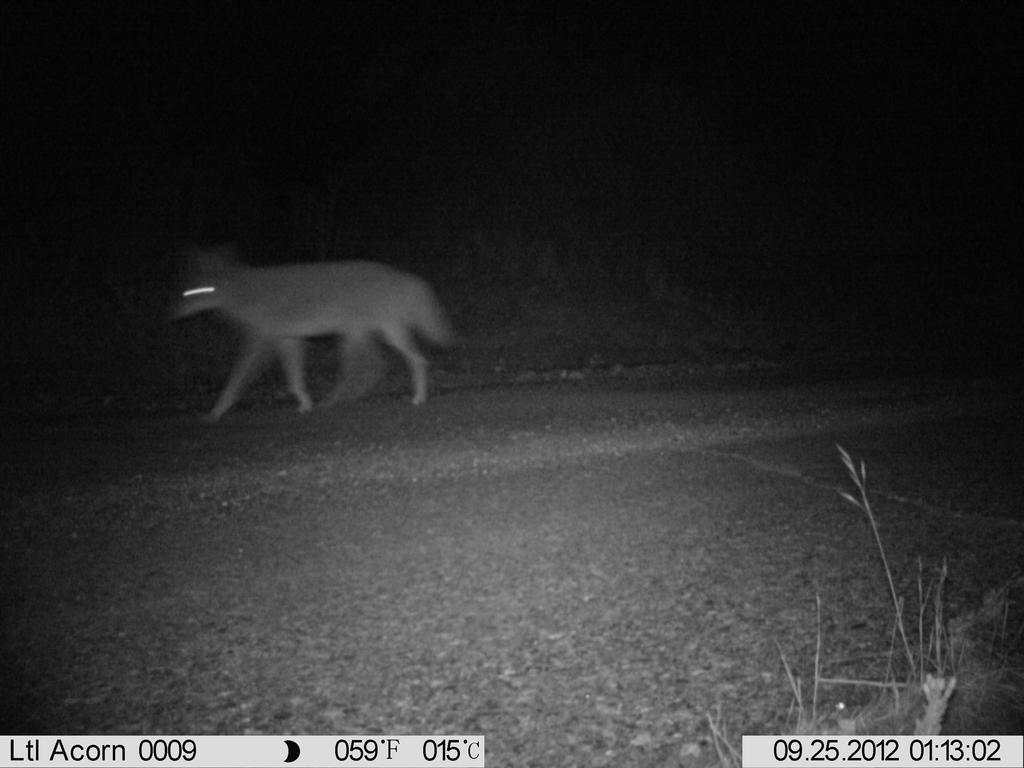coyote: (154, 226, 469, 425)
